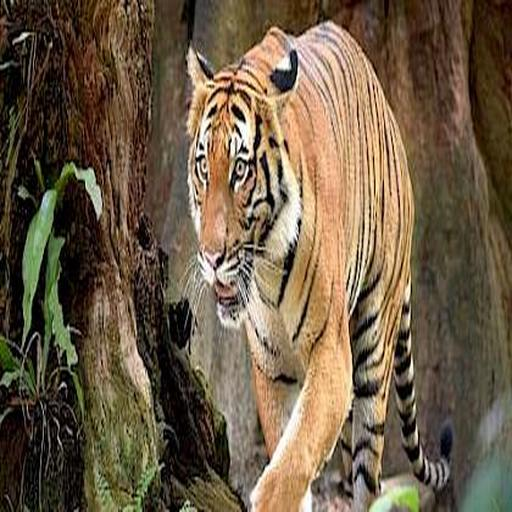Tiger: (159, 15, 463, 512)
